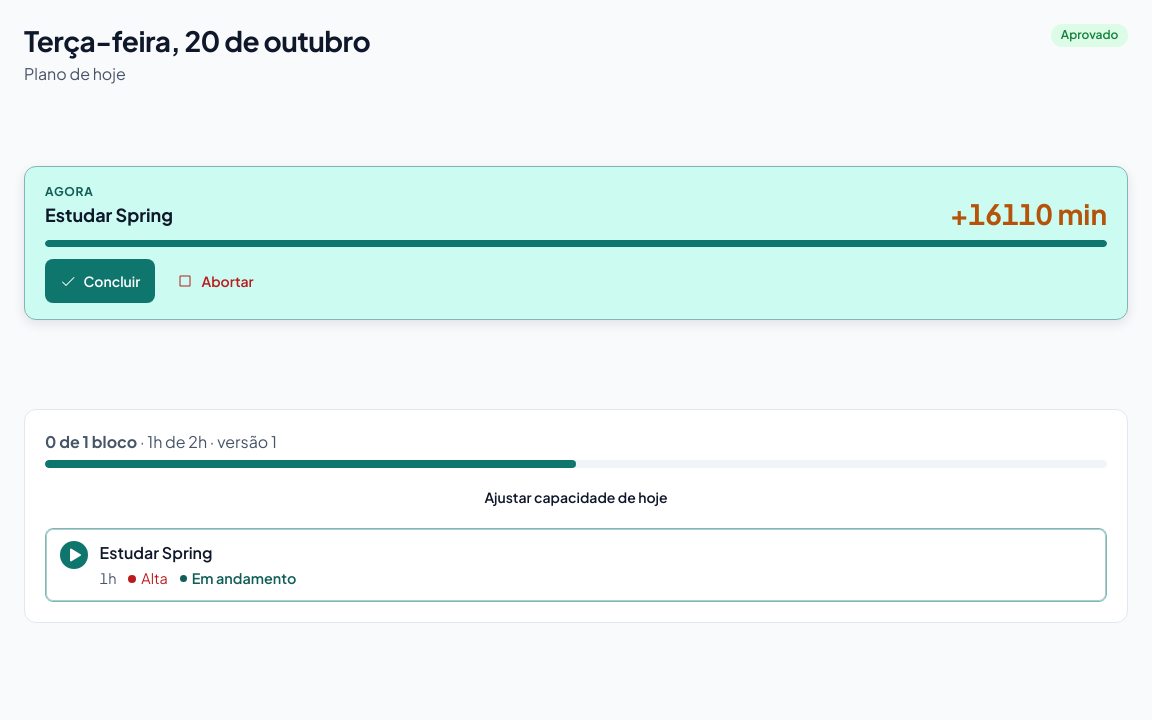
Test: HomePage — plano do dia › modo execução (plano APROVADO) › conclui execução
Click the button with aria-label "concluir estudar spring". click: click(100, 281)
box: [45,259,155,303]
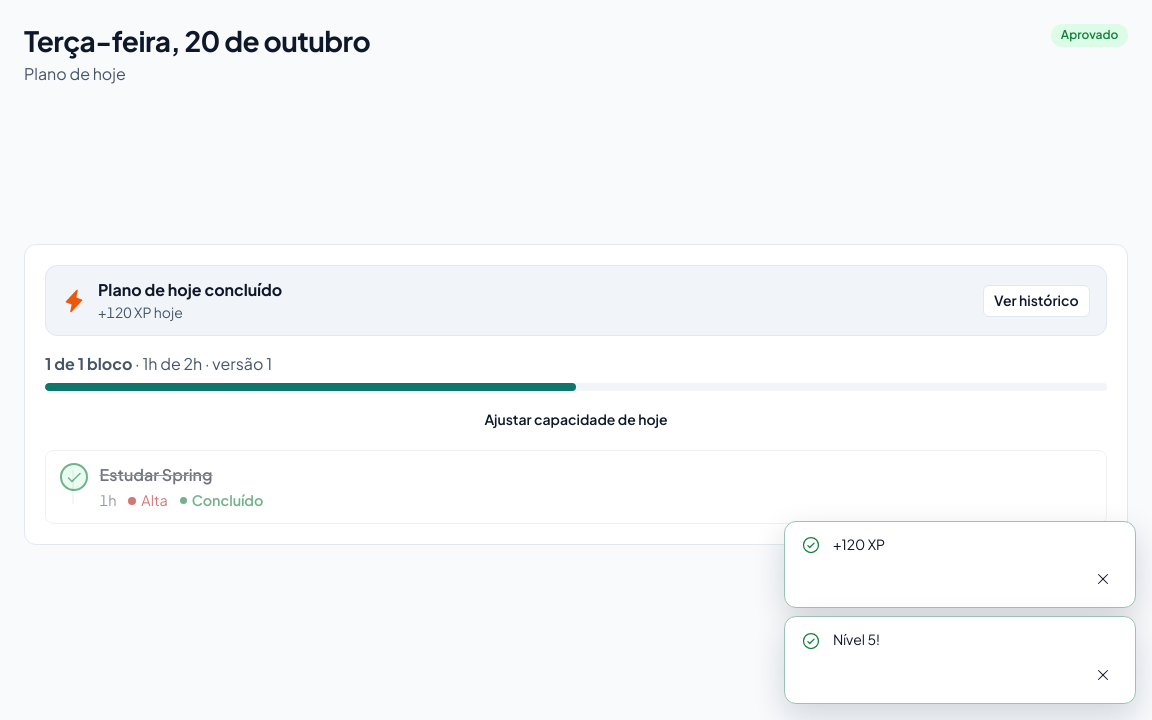
Check: the text "Concluído" is shown, box [180,490,263,512]
Check: the text "+120 XP" is shown, box [833,535,885,553]
Check: the text "Nível 5!" is shown, box [833,630,880,648]
